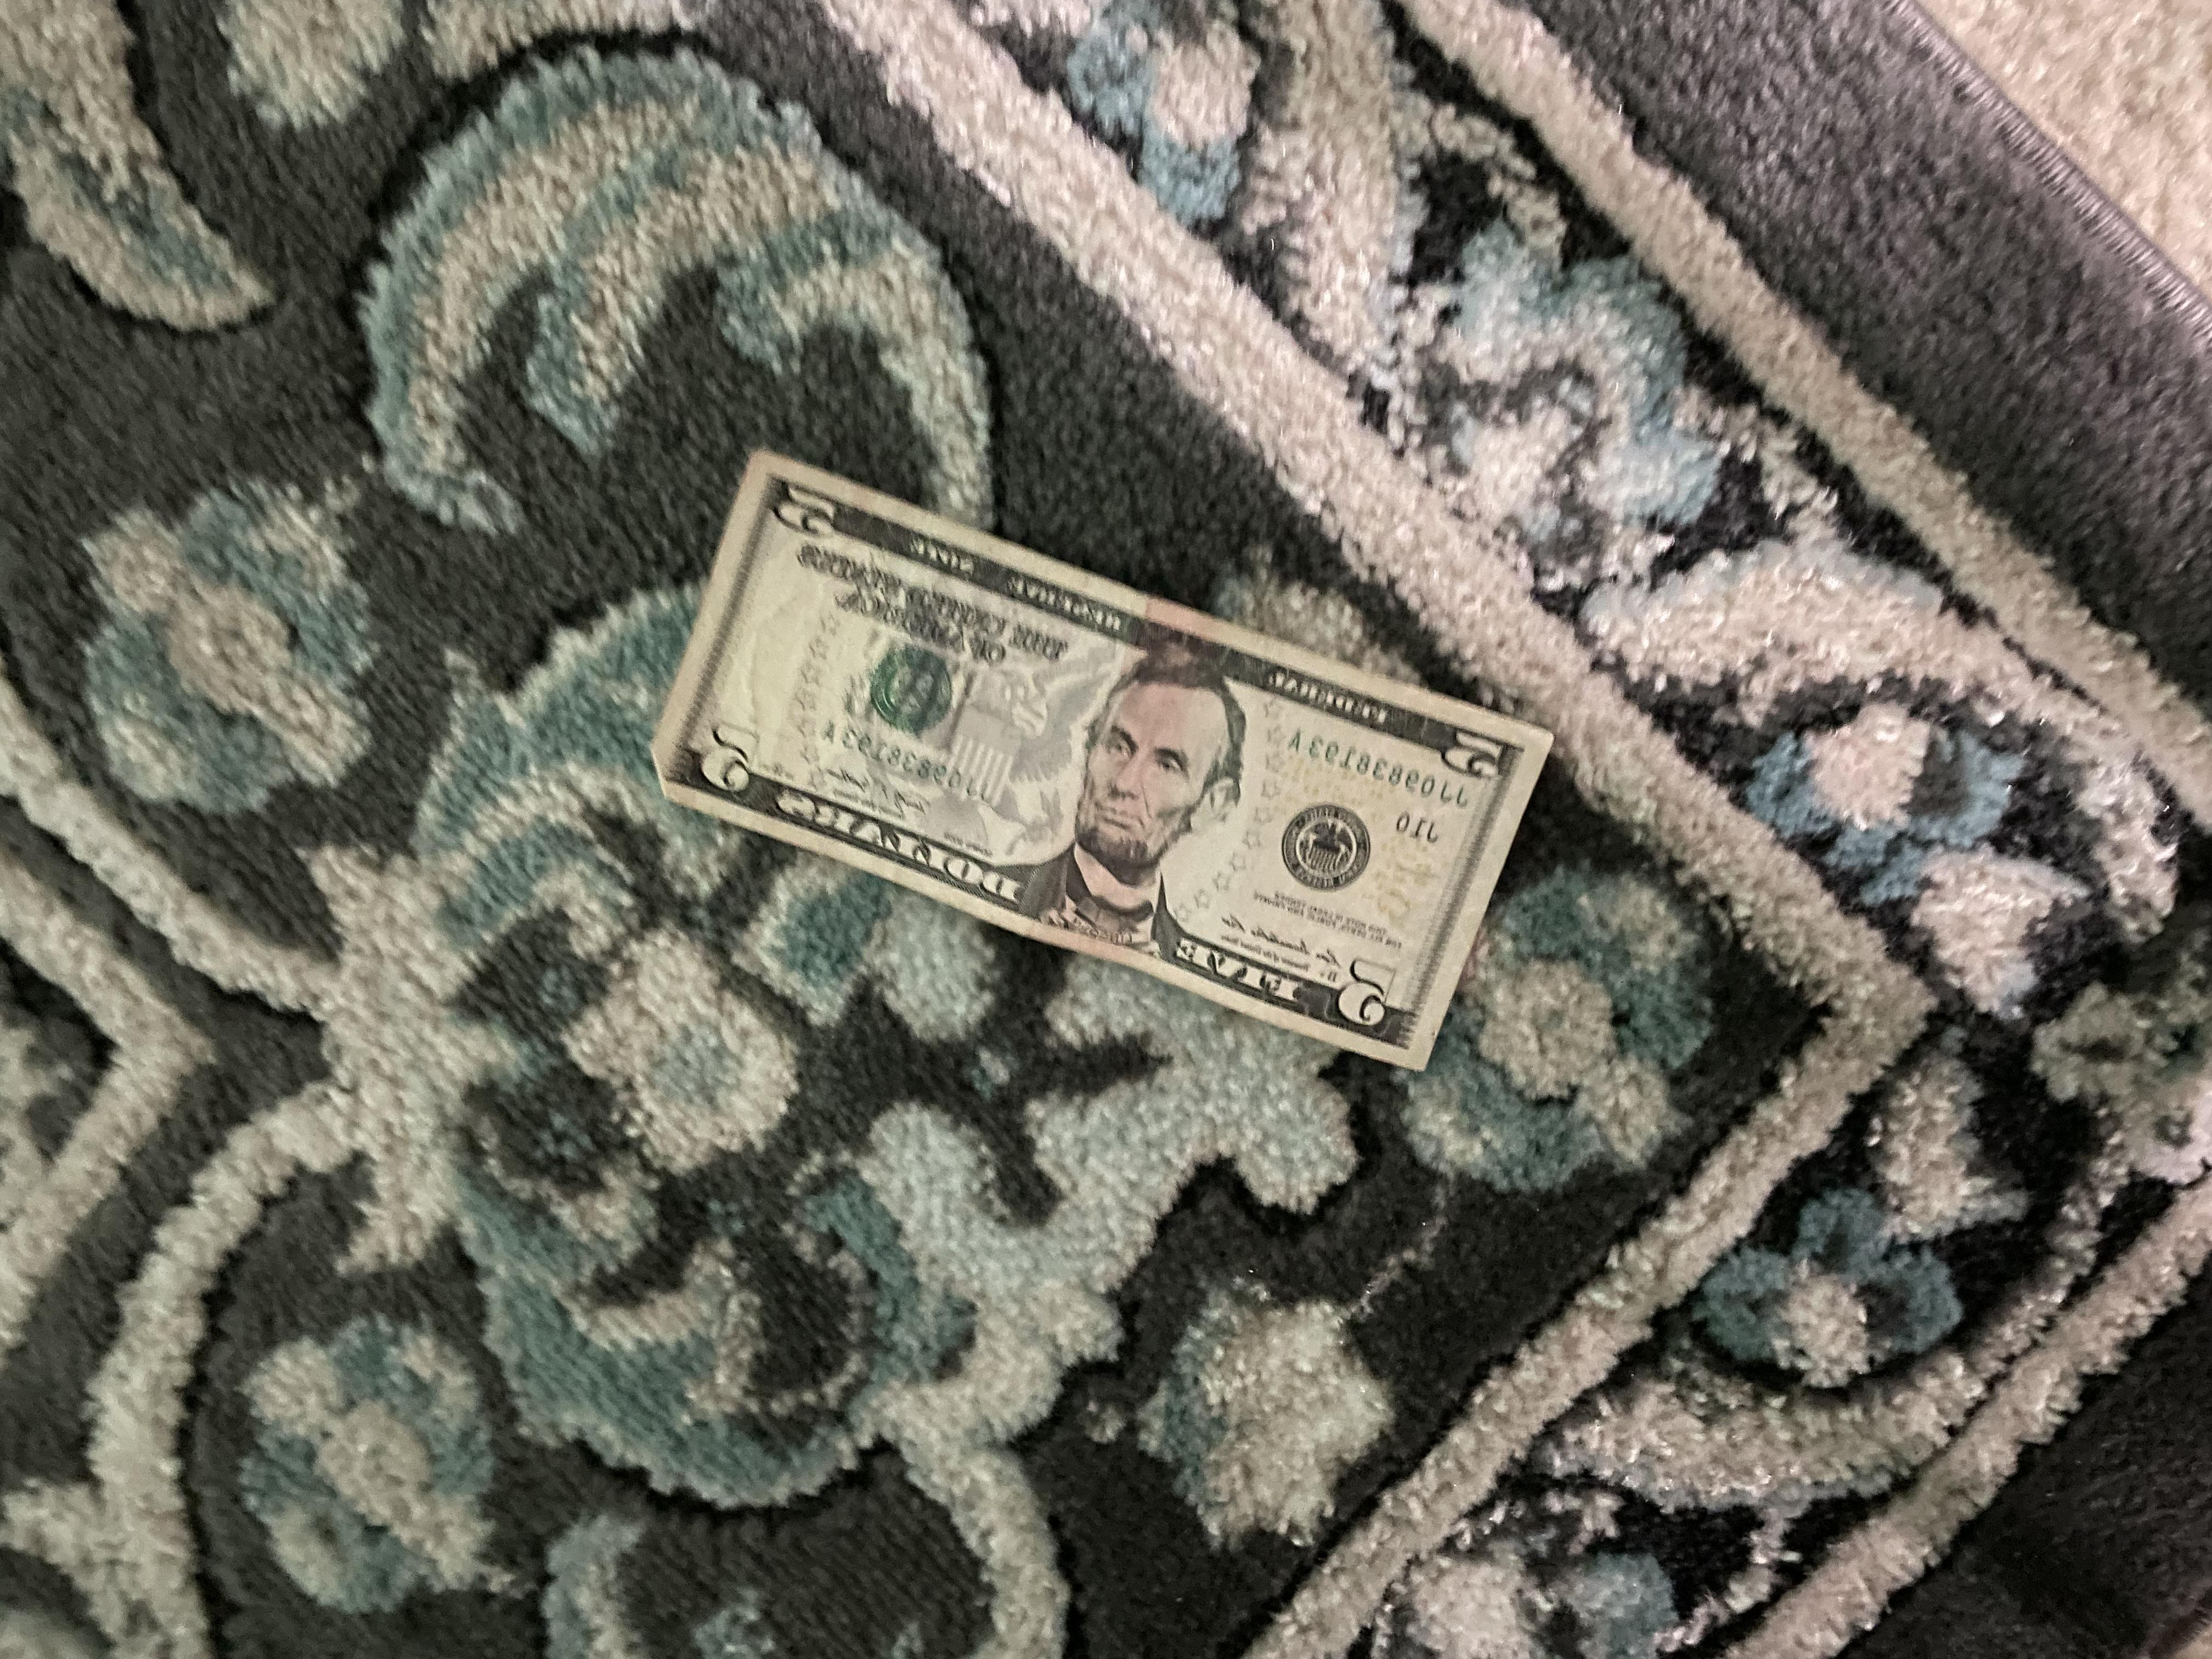FiveBill: (648, 441, 1569, 1072)
